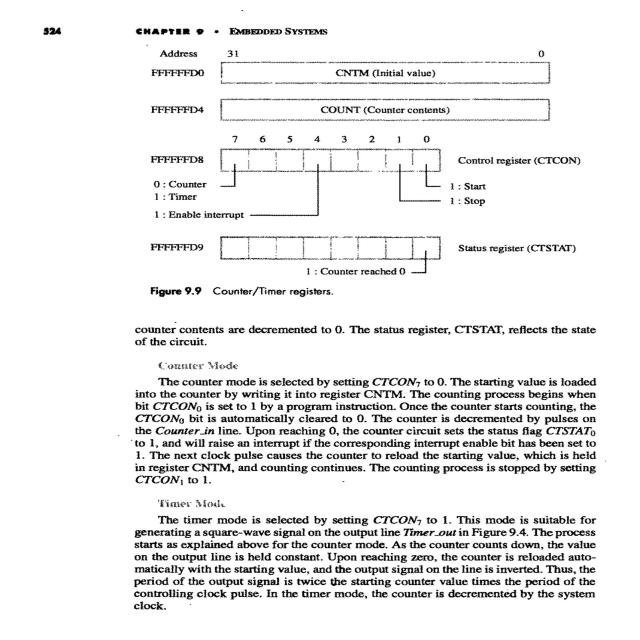diagram: (100, 44, 640, 309)
